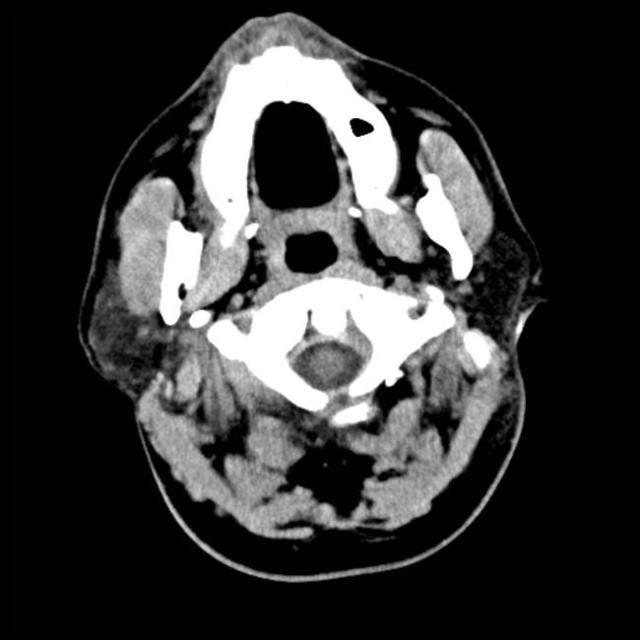lesion: (77, 13, 547, 568)
